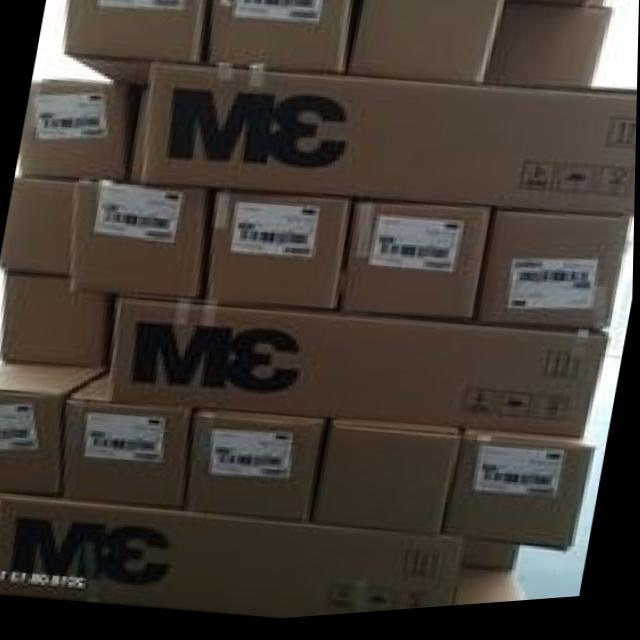box: (133, 66, 638, 225), (111, 300, 610, 448), (0, 495, 465, 622), (478, 212, 633, 339), (337, 205, 498, 326), (444, 438, 595, 560), (61, 371, 190, 510), (206, 193, 354, 314), (71, 183, 213, 301), (312, 428, 461, 540), (183, 415, 325, 523), (344, 0, 507, 91), (0, 361, 104, 496), (67, 0, 209, 88), (19, 79, 135, 186), (482, 8, 612, 102), (203, 0, 353, 79), (1, 274, 113, 371), (3, 178, 76, 278), (460, 544, 524, 578)
